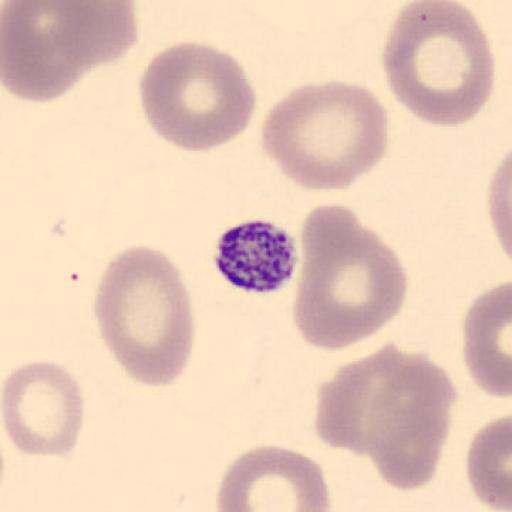Platelet: (210, 216, 302, 296)
RBC: (313, 343, 454, 491), (294, 202, 408, 350), (92, 244, 195, 391), (380, 0, 495, 128), (262, 78, 390, 193), (0, 0, 135, 104), (137, 41, 258, 152), (362, 349, 454, 492), (314, 341, 414, 457), (1, 0, 96, 103), (2, 359, 86, 459), (216, 443, 332, 512), (43, 0, 140, 69), (462, 279, 512, 399), (466, 411, 512, 511), (488, 150, 512, 264)
